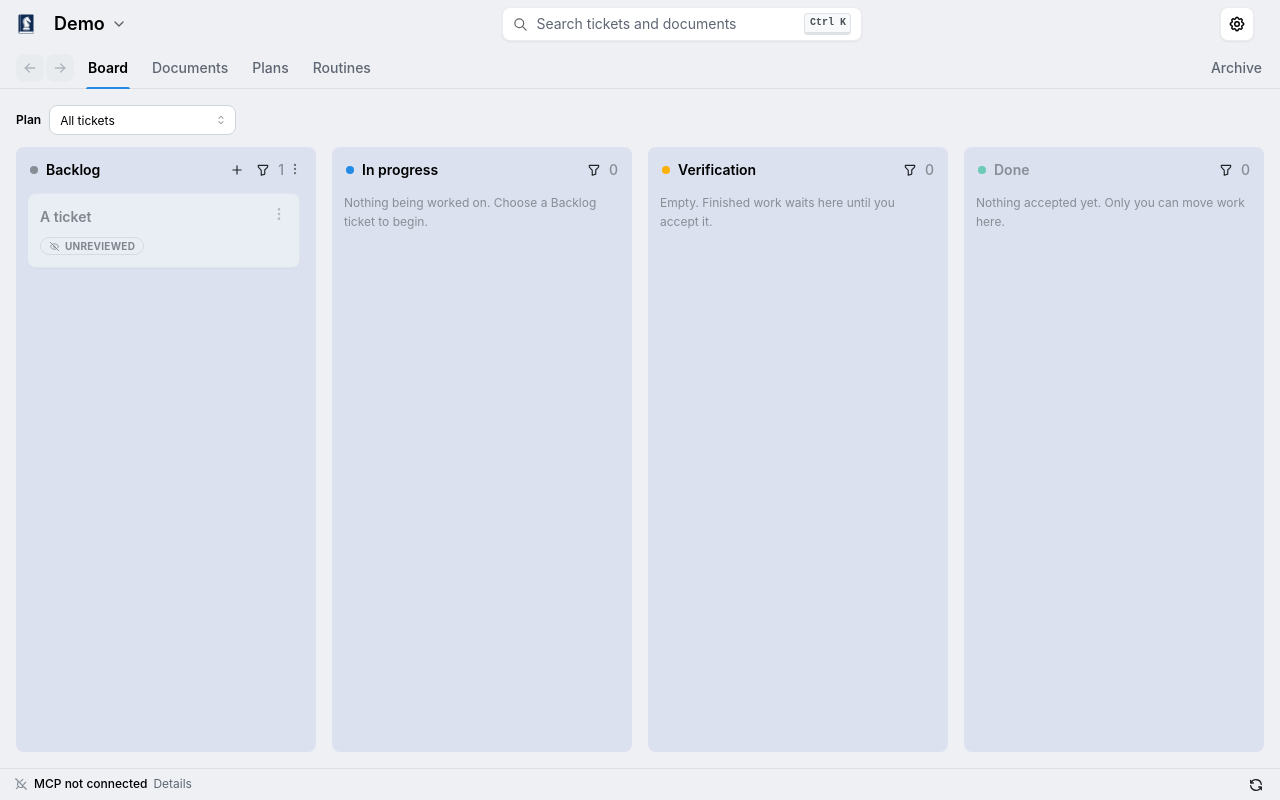
removing an entry › keeps the entry and explains when the host refuses
Expected: the text "A ticket" is shown, [40, 208, 91, 225]
Click the tab "Documents".
click(190, 68)  # box [150, 48, 230, 88]
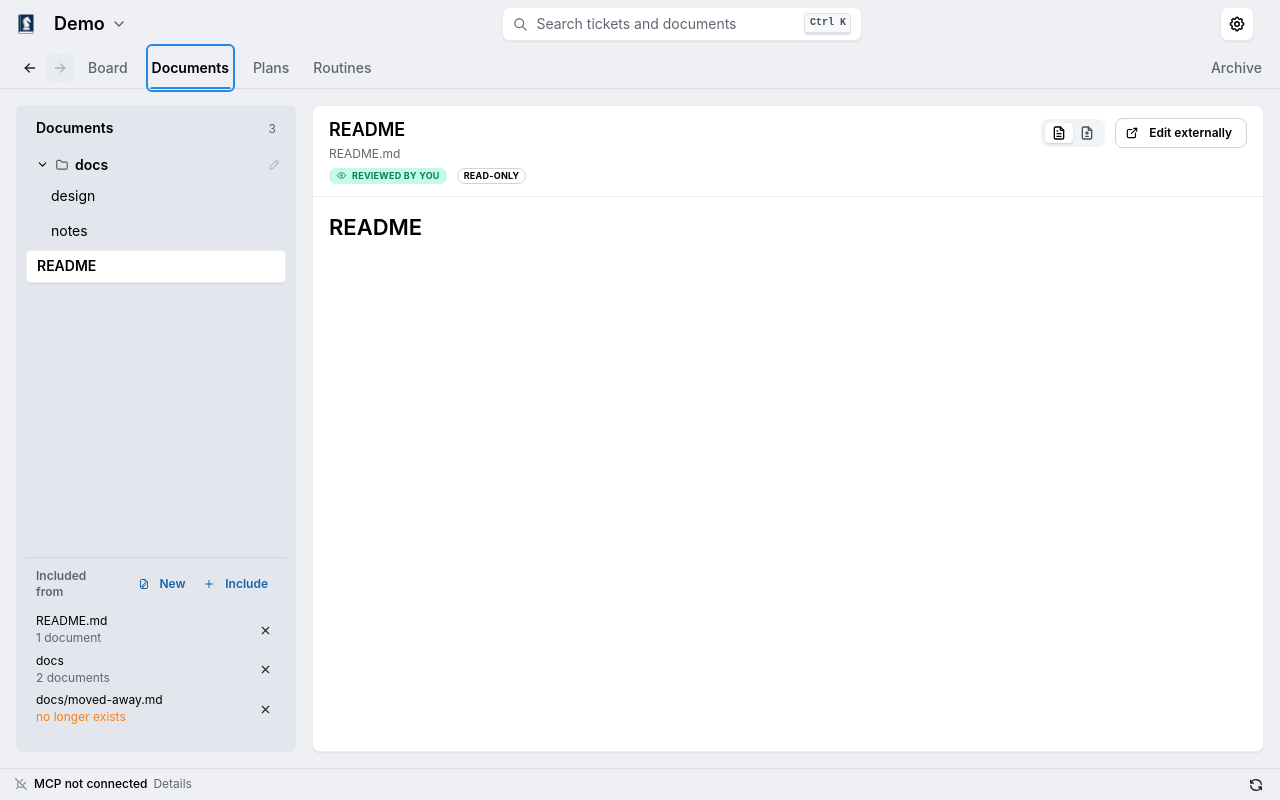
Expected: the text "Included from" is shown, [36, 568, 86, 599]
Click the button named "Remove docs from this workspace".
click(265, 670)  # box [254, 659, 276, 681]
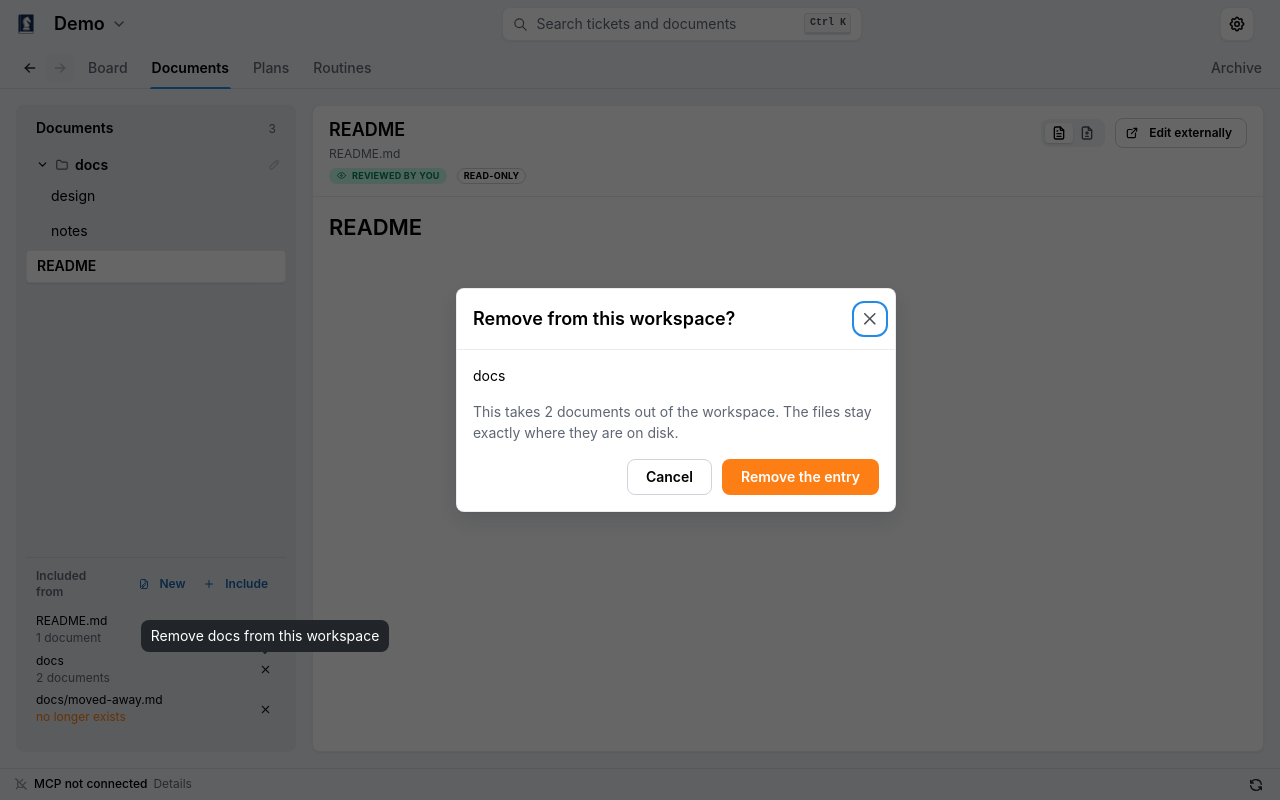
Click the button "Remove the entry".
click(800, 477)  # box [722, 459, 879, 495]
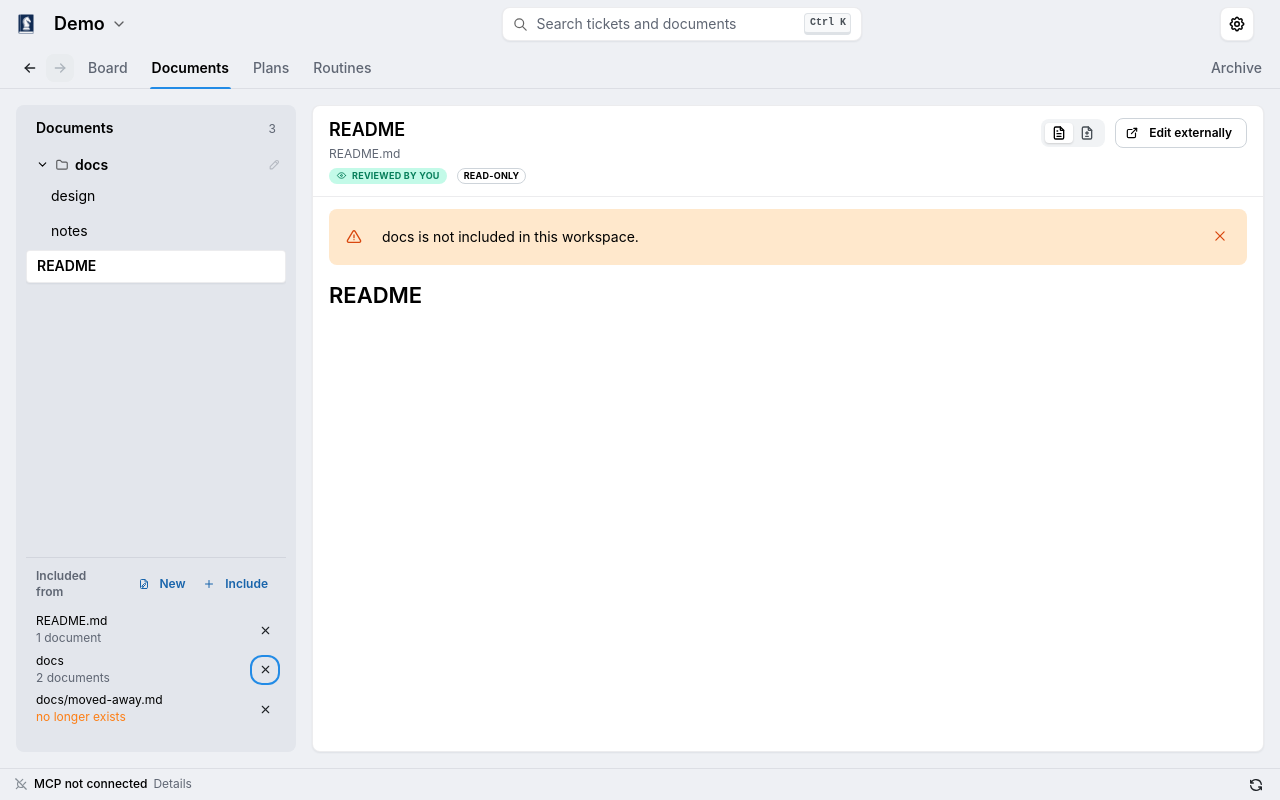
Expected: the text "2 documents" is shown, [36, 670, 110, 686]
Expected: the text "docs is not included in this workspace." is shown, [382, 228, 639, 245]
